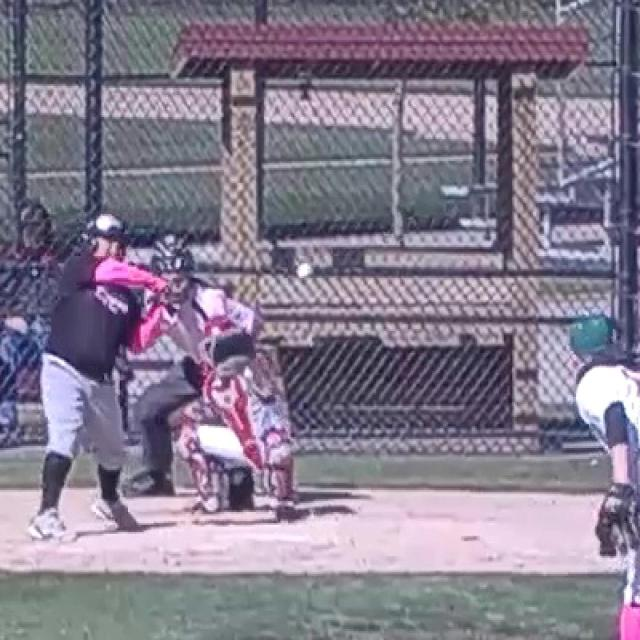baseball: (297, 263, 312, 277)
